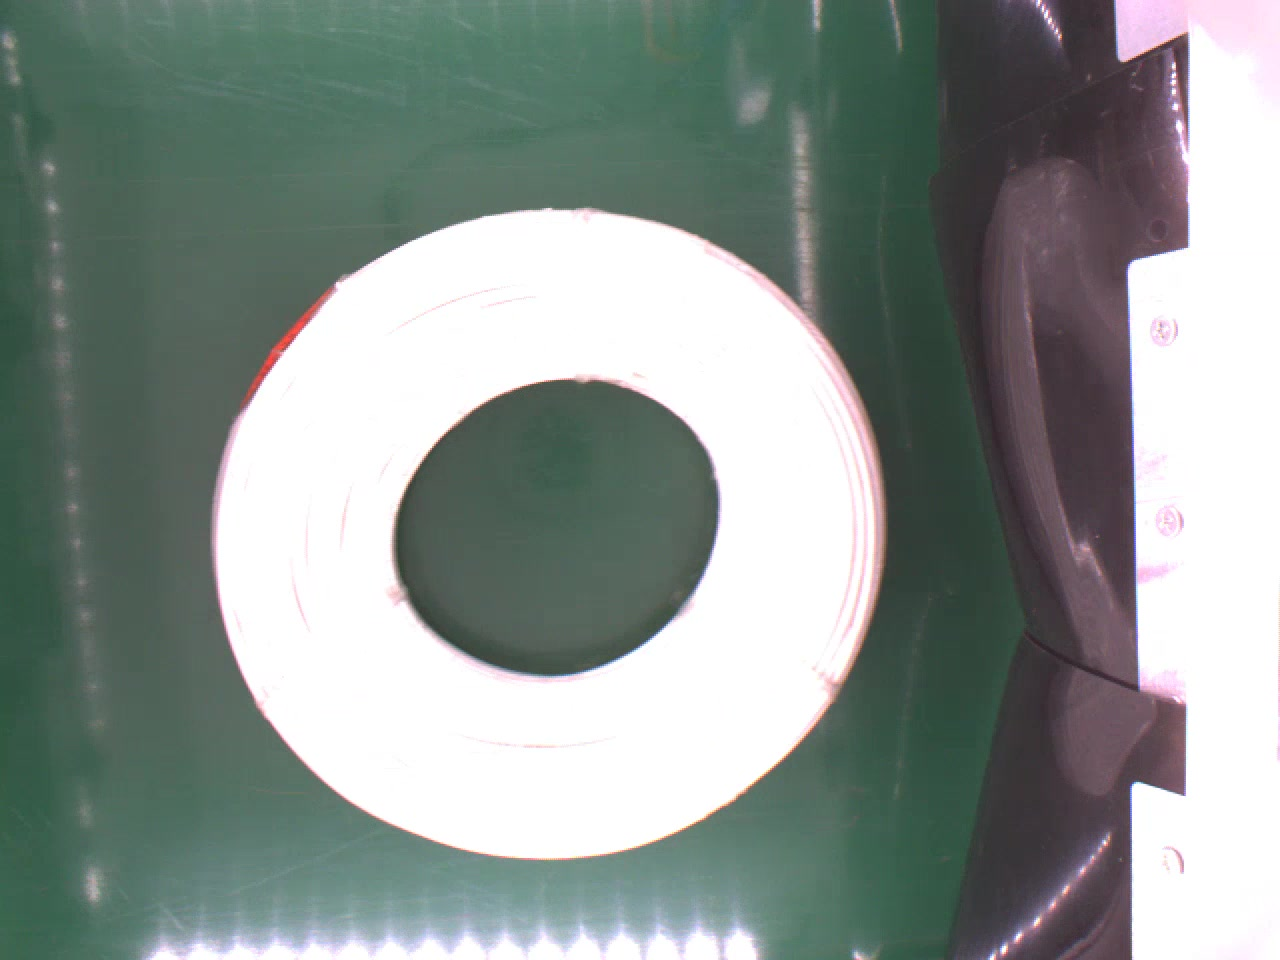white: (204, 202, 895, 865)
